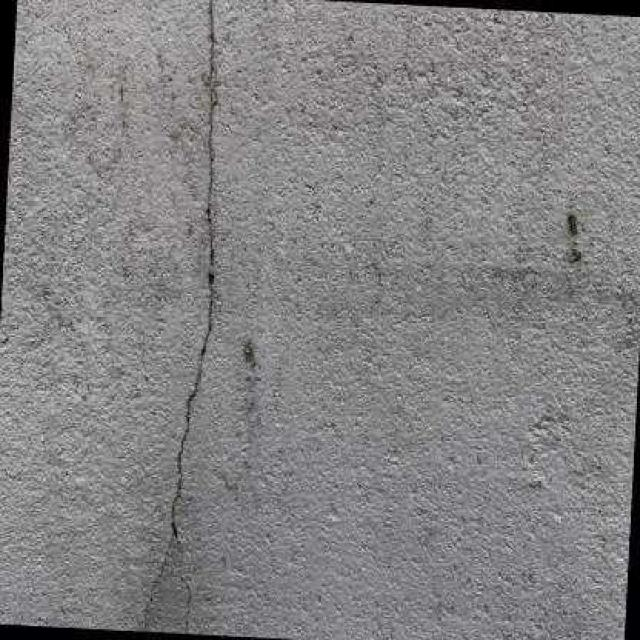D00: (171, 0, 213, 633)
